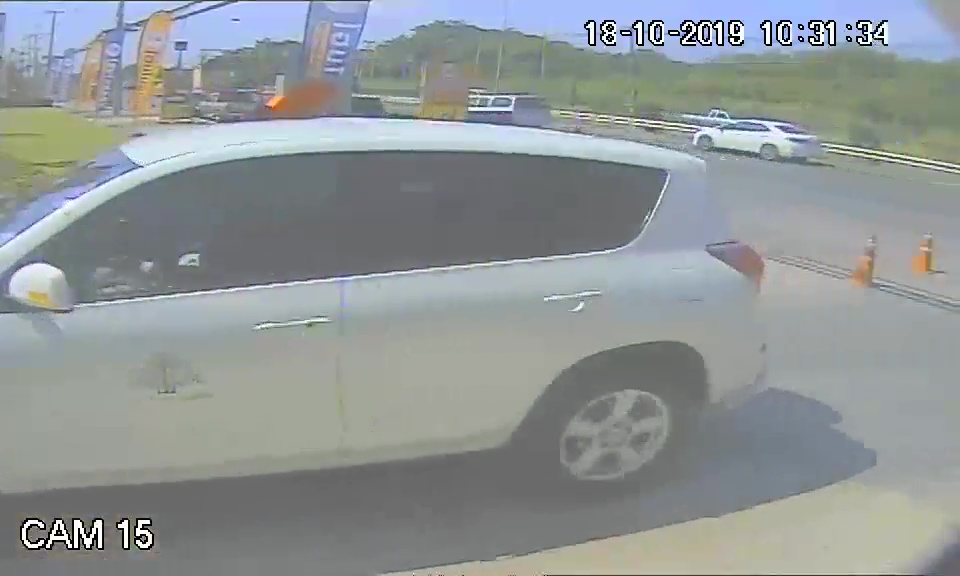pickup: (3, 115, 774, 499)
